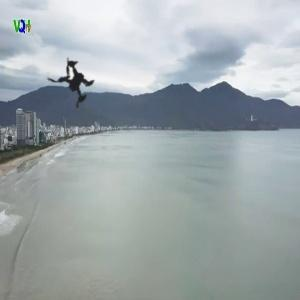drone: (32, 34, 129, 131)
